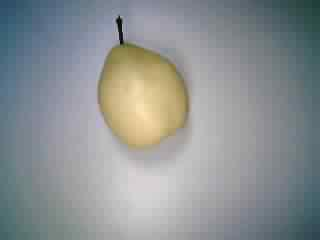pear: (78, 8, 194, 156)
